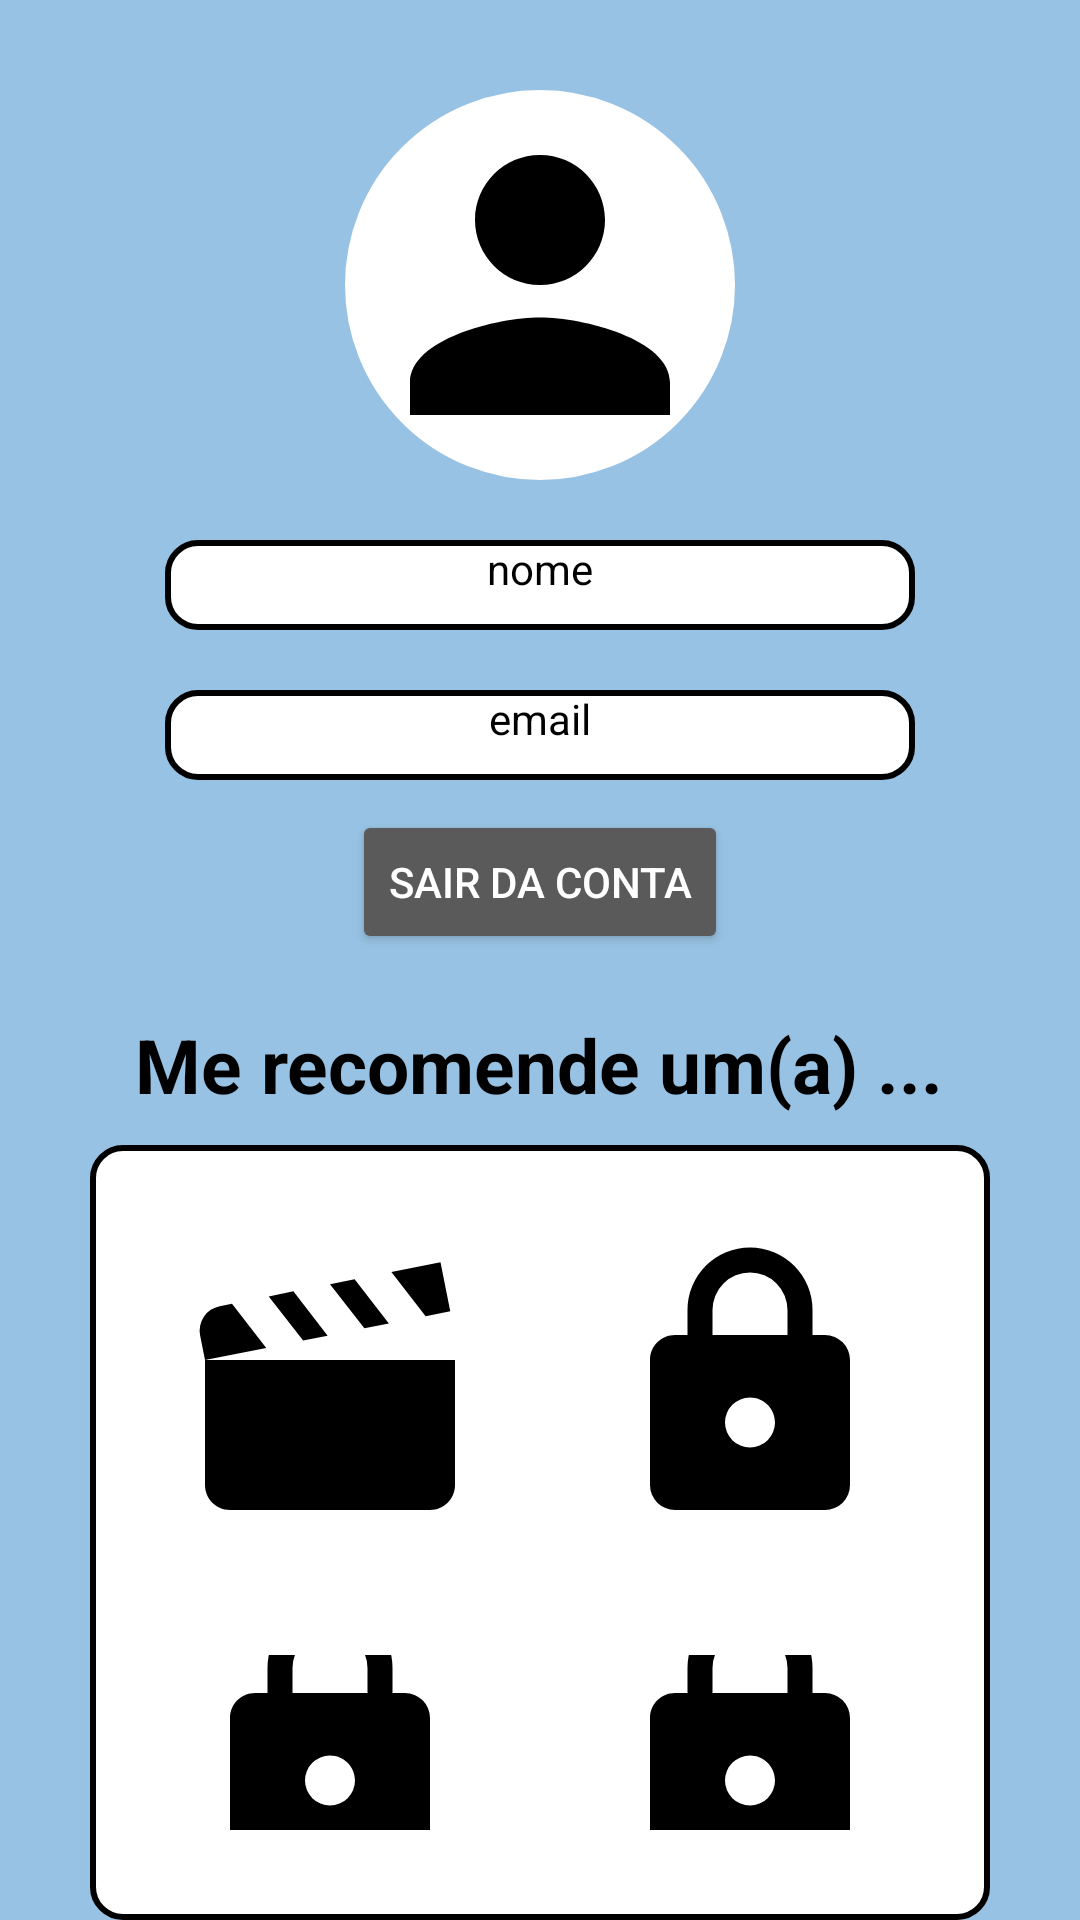

Point at icon controls on the screen. Image size 1080w x 1920h, points as (x,y).
movie open: (327,1386)
